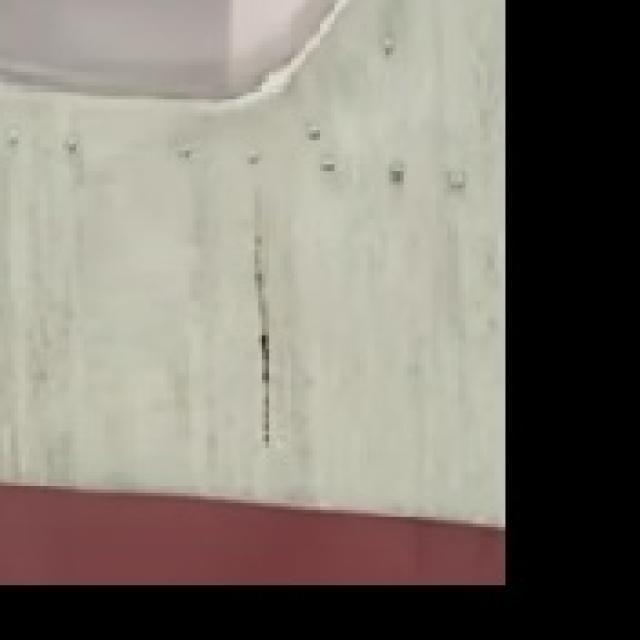crack: (227, 258, 318, 484)
